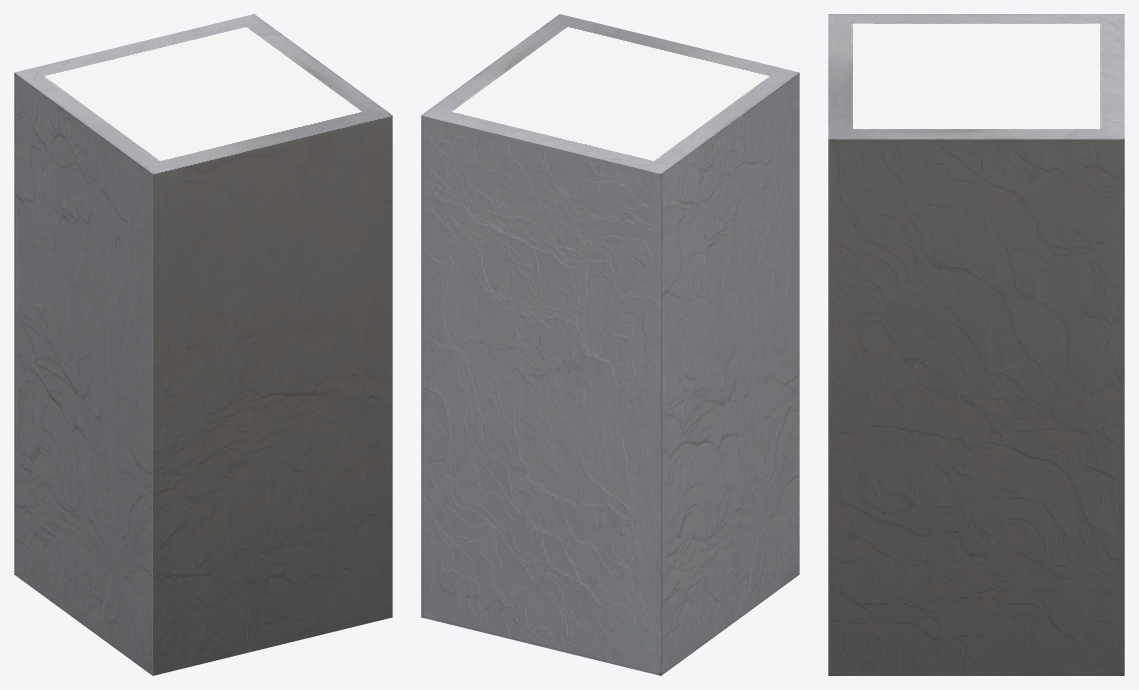
File: StatutePodium3 (3.7,  -6.29943, 0).glb
3 renders of one model, left to right at view 1: azimuth 30°, elevation 25°; view 2: azimuth 150°, elevation 25°; view 3: azimuth 270°, elevation 25°, orthographic. The views are drawn at different scales.
Parts seen in each view (by area): view 1: StatuePlace 3.001; view 2: StatuePlace 3.001; view 3: StatuePlace 3.001.
Part boxes in pixels (x1,y1,x2,y2): StatuePlace 3.001: (14,14,392,675); StatuePlace 3.001: (421,14,799,675); StatuePlace 3.001: (828,14,1124,675).
Bounding box in the file's own units: 0.6 × 1.2 × 0.6.
Materials: 1 (1 with a texture image).
